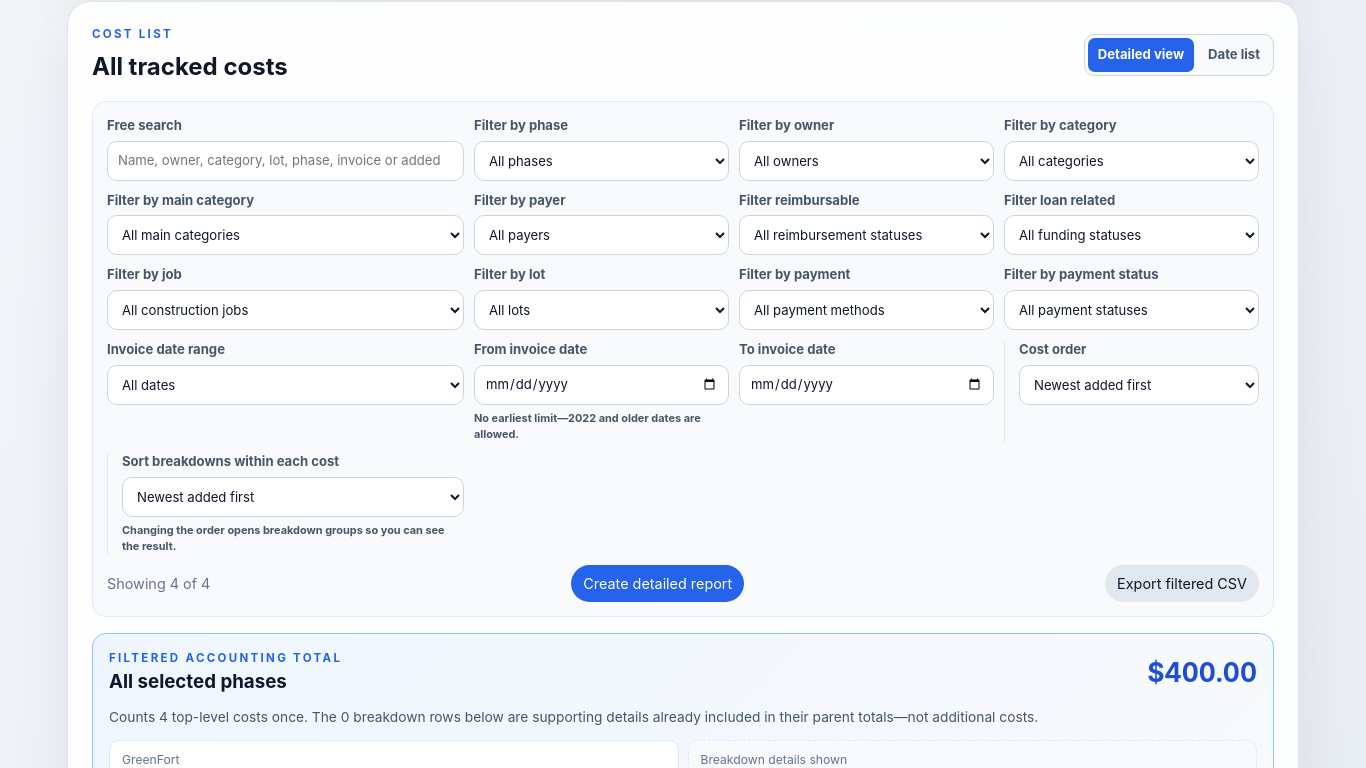
Test case: CostPage invoice extraction › filters costs with common invoice date range presets and supports custom dates
(page scrolled)
Select "This month" in the dropdown named "Filter costs by invoice date range". click: (286, 385)
box: [107,365,464,405]
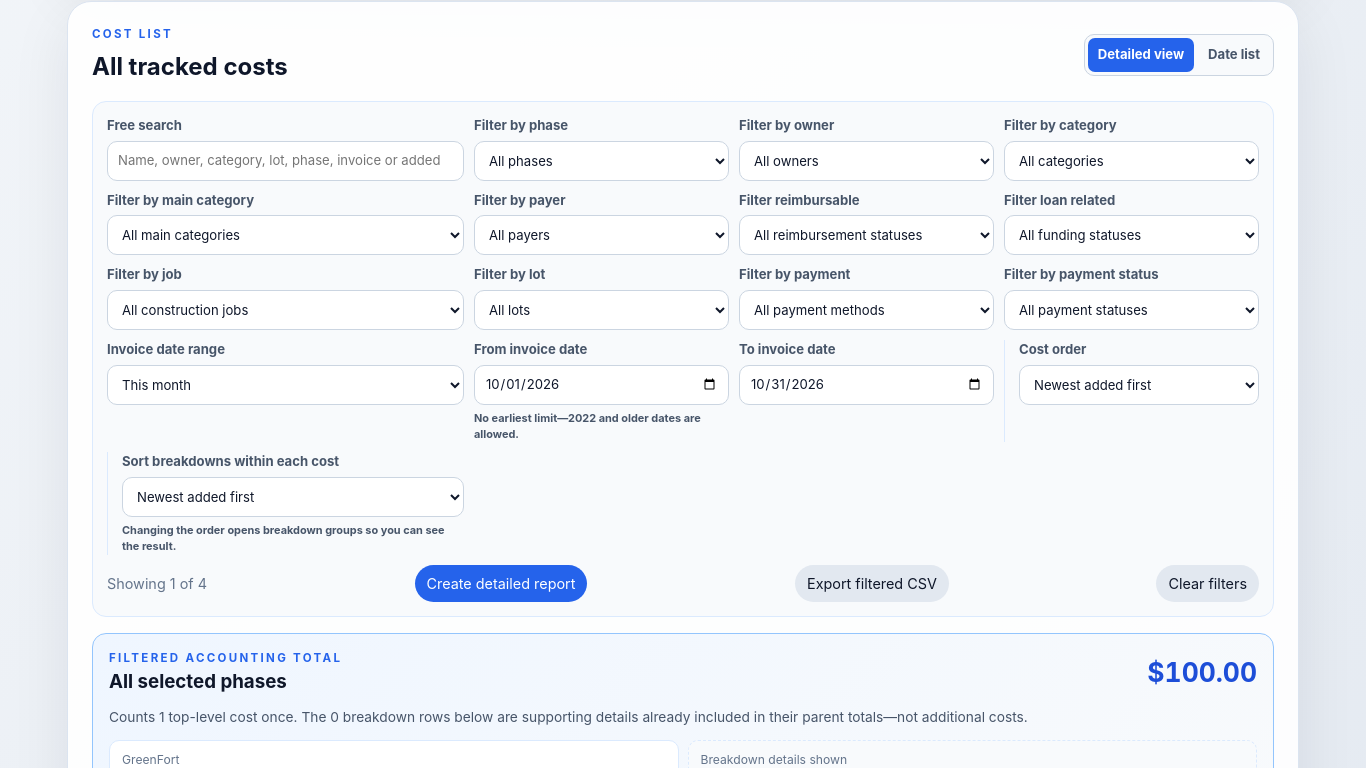
Select "Last month" in the dropdown named "Filter costs by invoice date range". click: (286, 385)
box: [107,365,464,405]
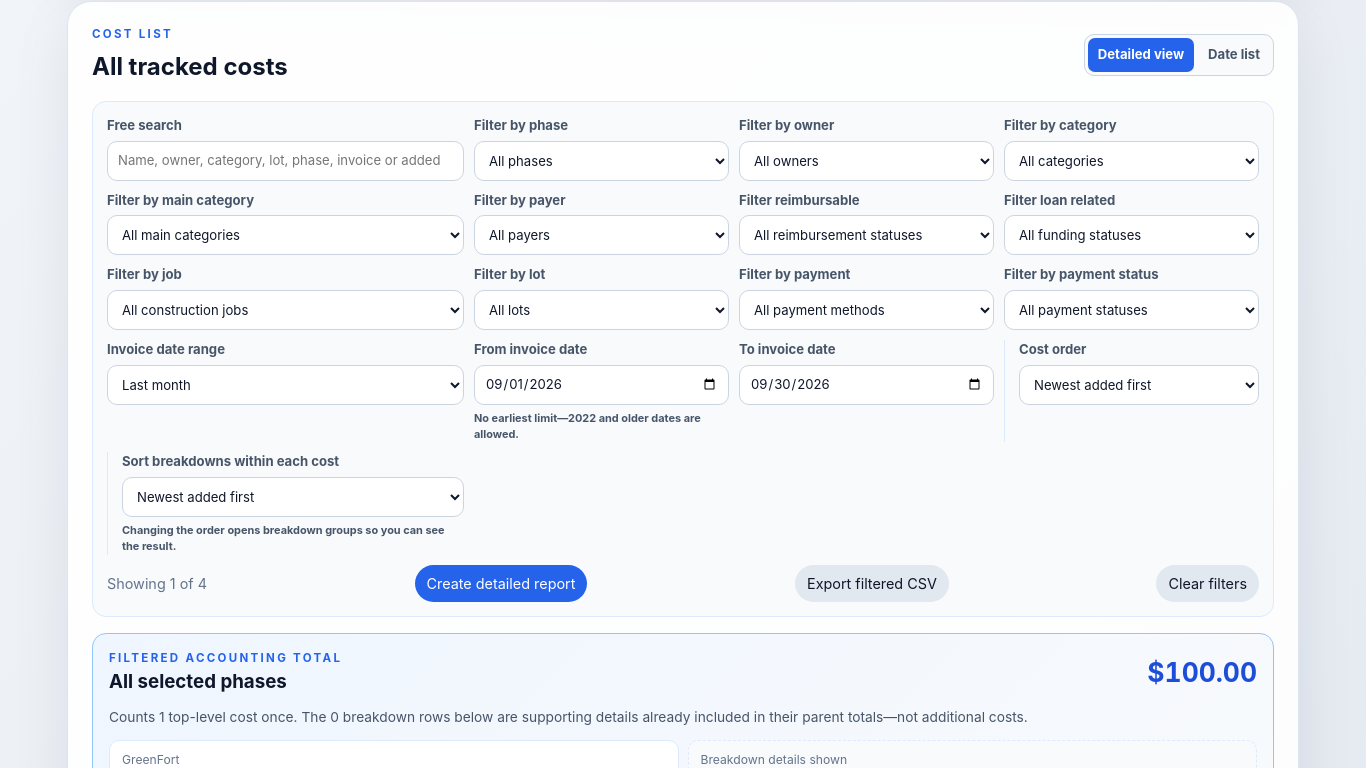
Select "Last 6 months" in the dropdown named "Filter costs by invoice date range". click: (286, 385)
box: [107,365,464,405]
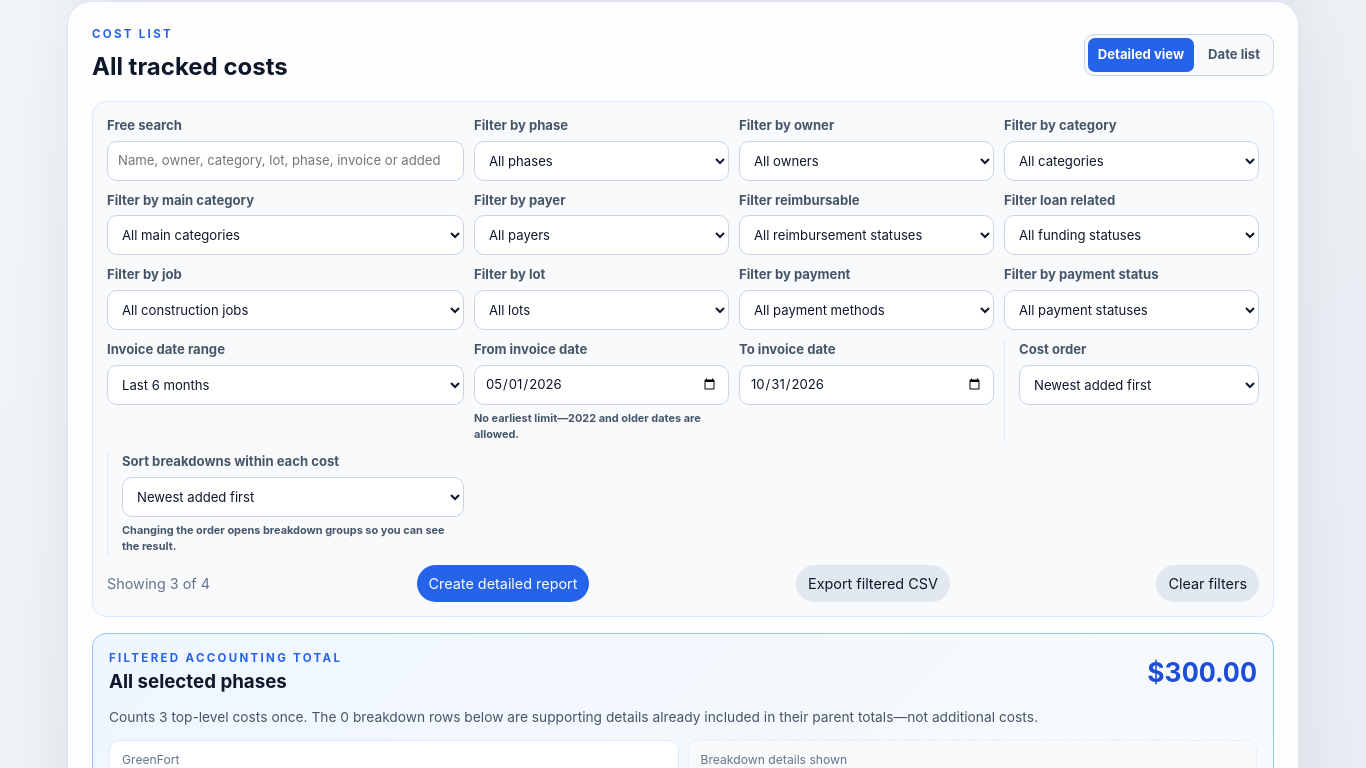
Type "2022-01-01" into the date field named "Filter costs from invoice date". click: (602, 385)
box: [474,365,729,405]
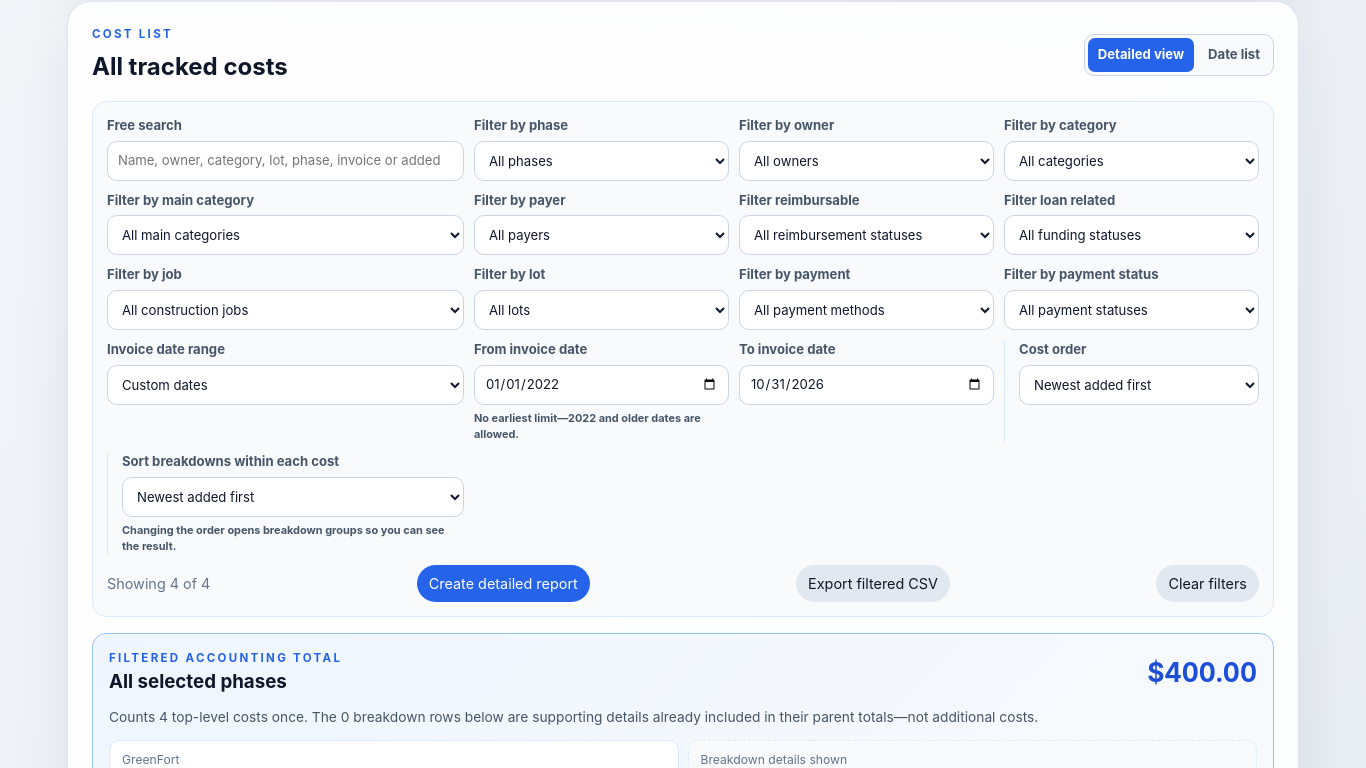
Click the button "Clear filters". click: (1208, 584)
box: [1156,565,1259,602]
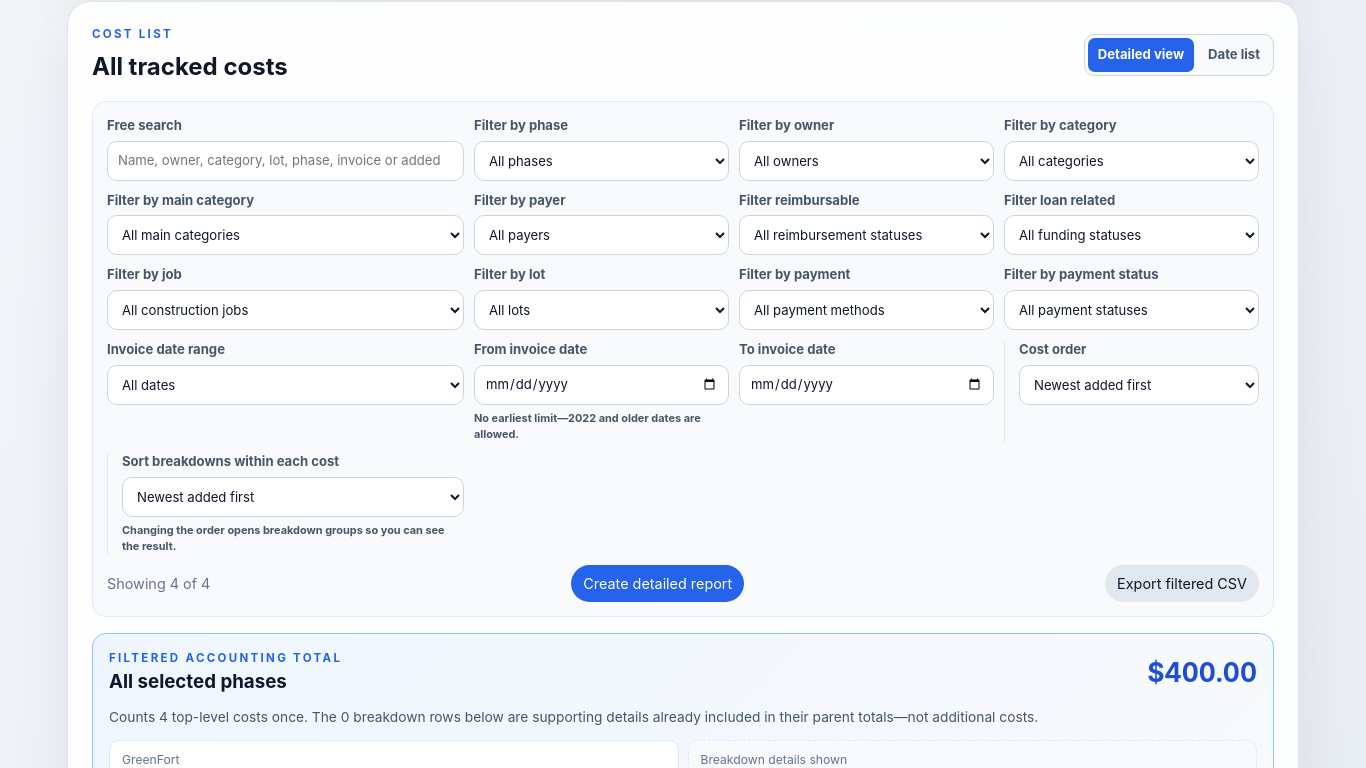
Expected: the date field named "Filter costs from invoice date" is empty, [474,365,729,405]
Expected: the date field named "Filter costs through invoice date" is empty, [739,365,994,405]
